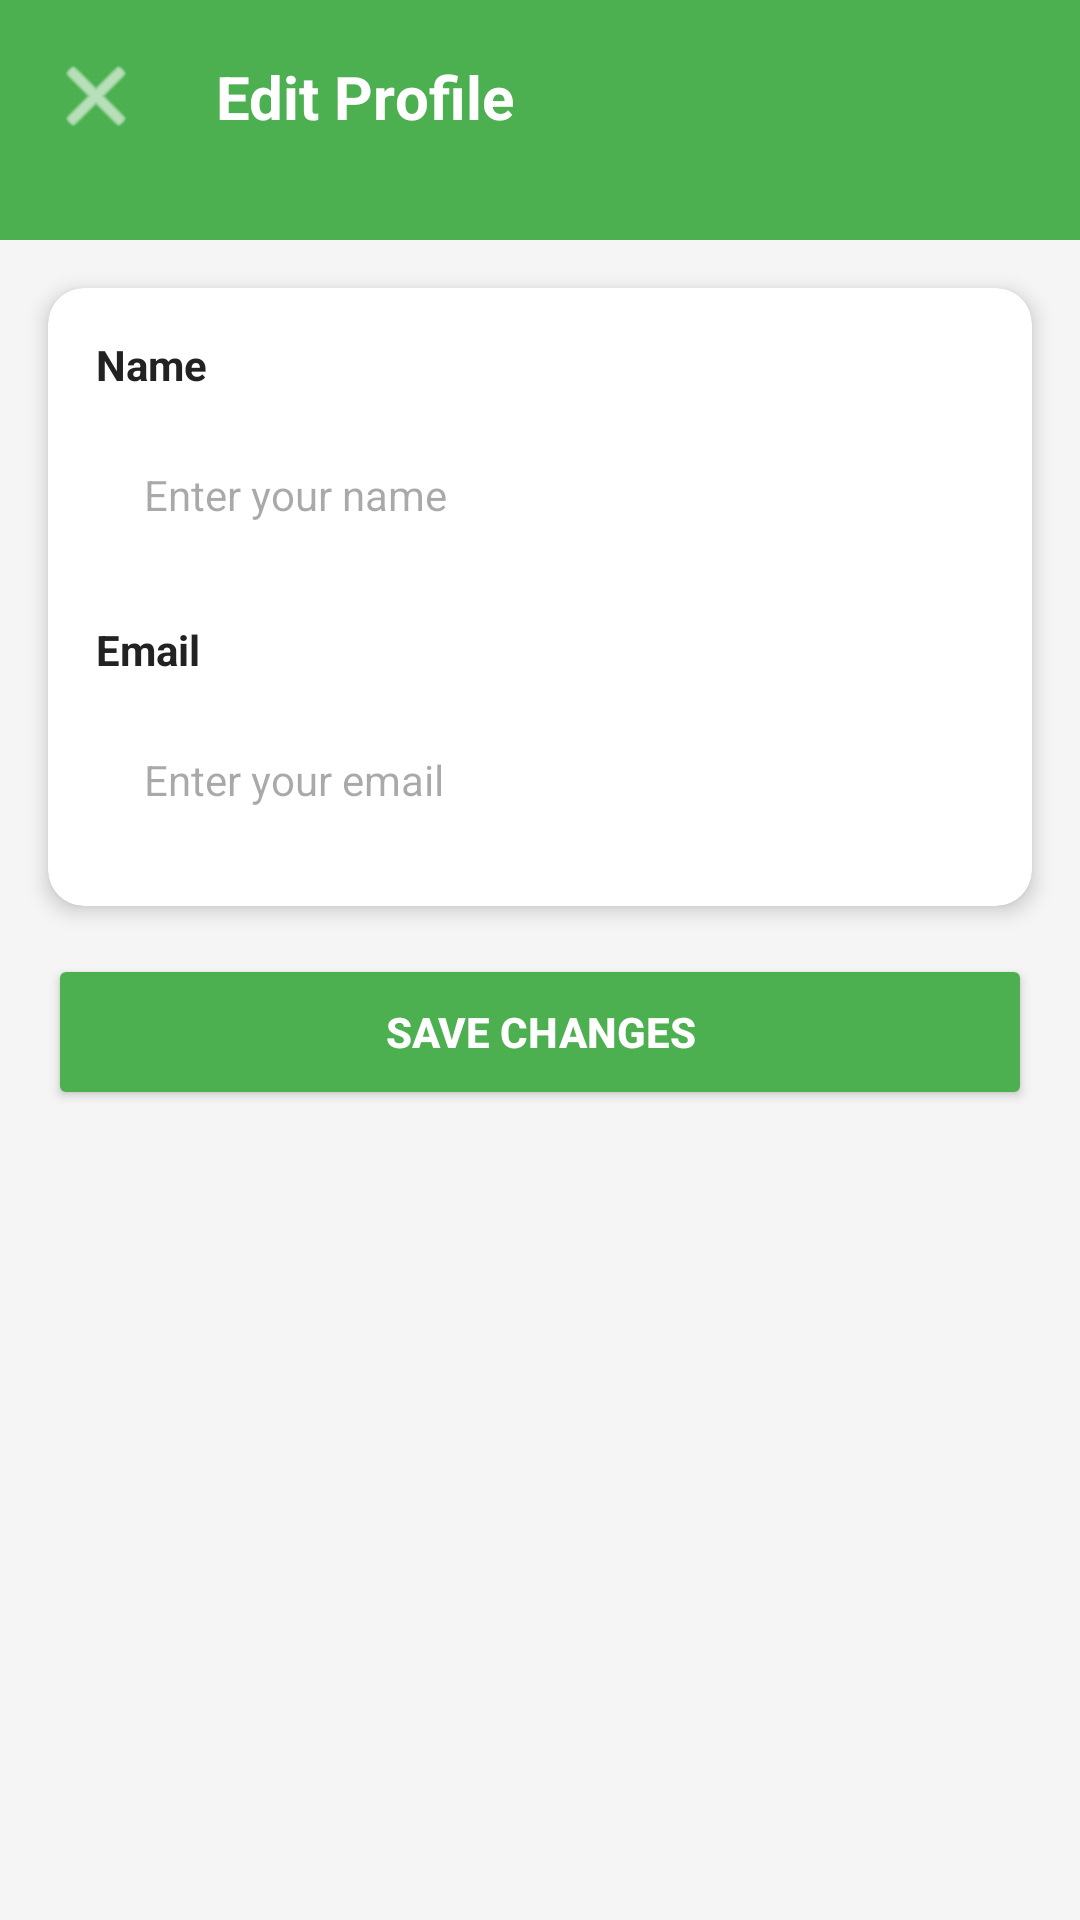

Icons on this 1080 × 1920 Android screen, each with its box as (x1, y1, x2, y2):
close clear cancel: (66, 66, 126, 126)
